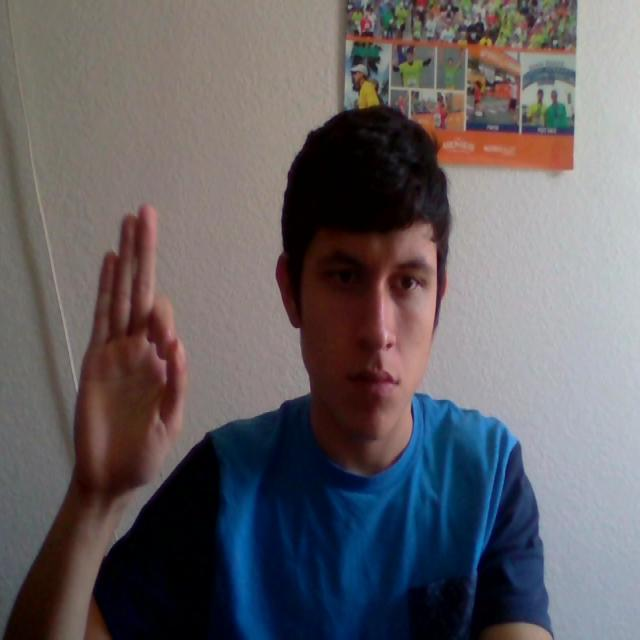F: (50, 143, 234, 527)
